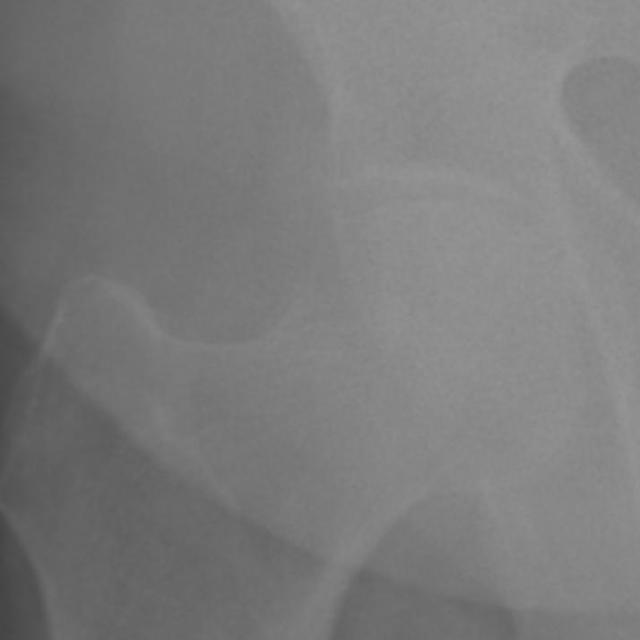Fitted_femural_head: (289, 197, 432, 289)
